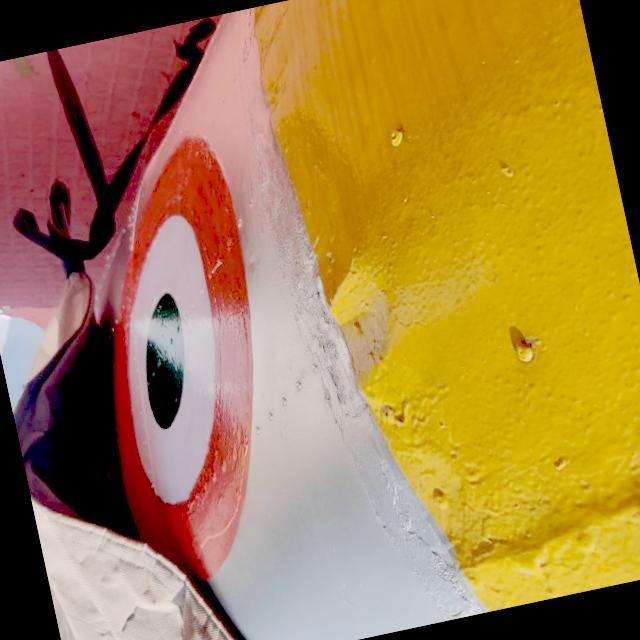dent: (257, 217, 442, 422)
